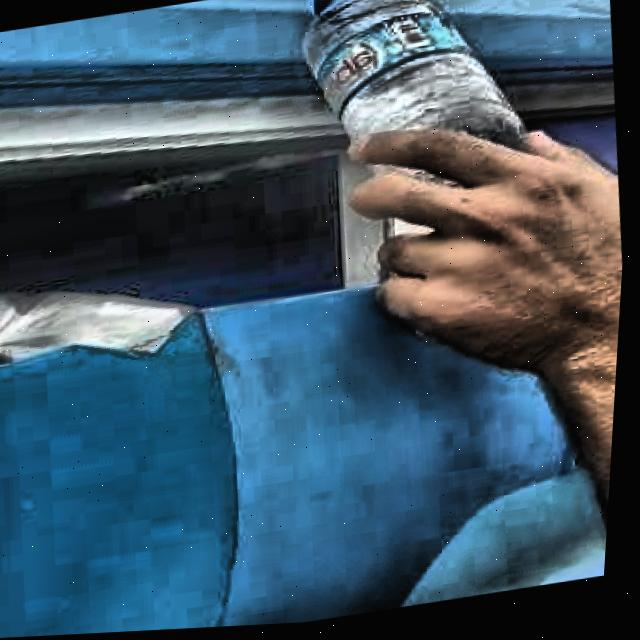plastic: (301, 0, 526, 152)
